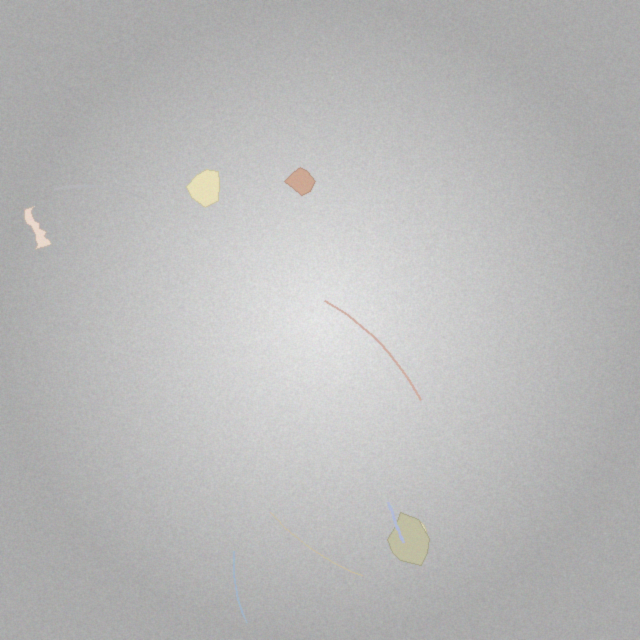fiber: (322, 298, 423, 402), (269, 511, 364, 578), (52, 183, 146, 201), (230, 548, 249, 625), (386, 499, 407, 546)
film: (24, 206, 51, 250)
fragment: (387, 513, 429, 565), (187, 170, 220, 208), (285, 168, 316, 196)
pellet: (397, 518, 426, 547)
